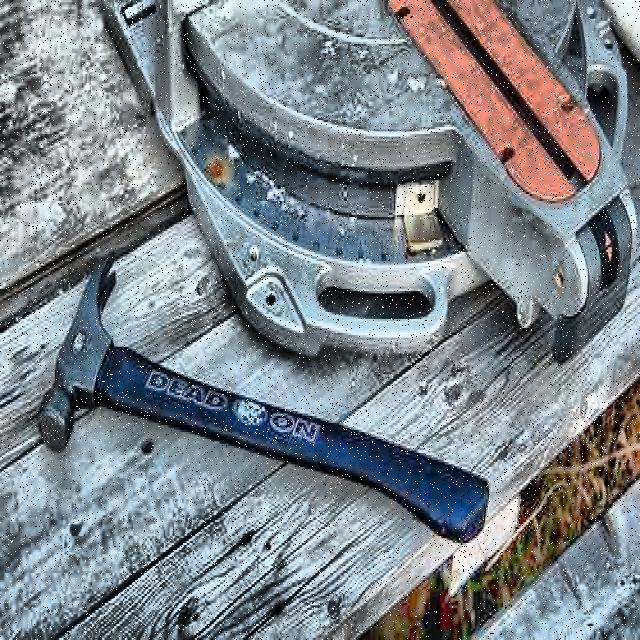hammer: (36, 247, 492, 563)
